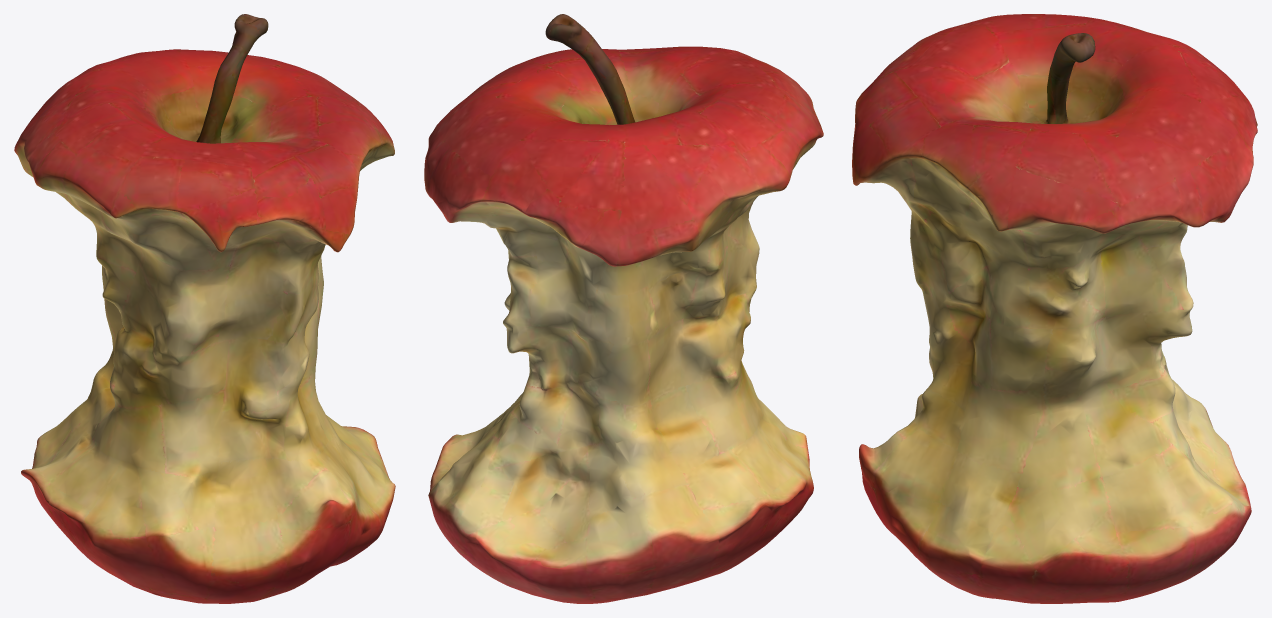
Rendered from Sprite_I.glb.
3 renders of one model, left to right at view 1: azimuth 30°, elevation 25°; view 2: azimuth 150°, elevation 25°; view 3: azimuth 270°, elevation 25°, orthographic. The views are drawn at different scales.
Bounding box in the file's own units: 1.34 × 2 × 1.35.
1 material, 1 textured.
